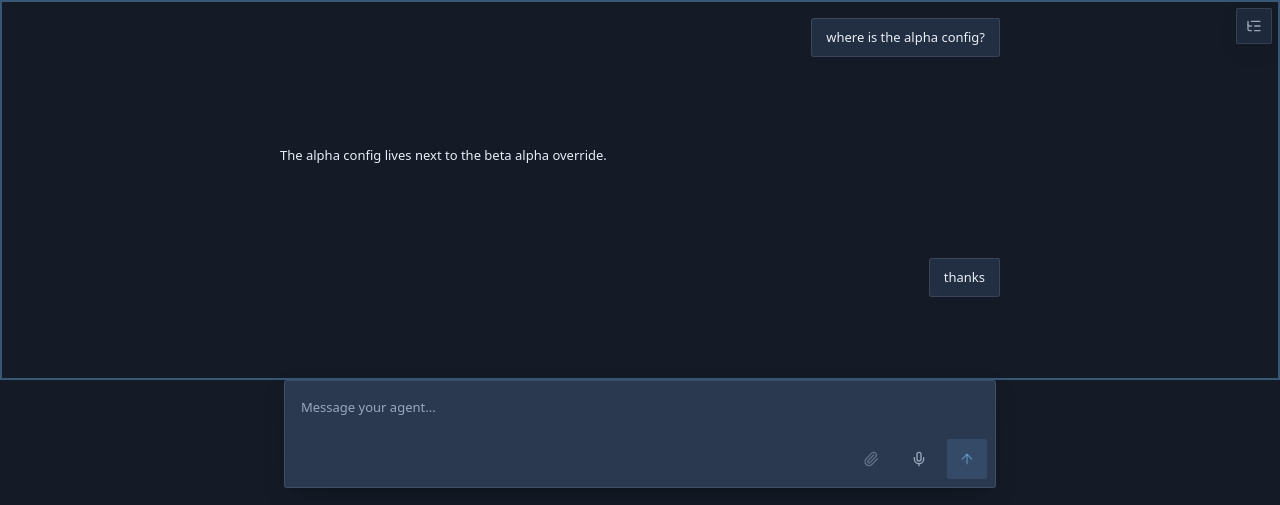
Test: ChatView — find in conversation › opens the find overlay on ⌘F when the chat surface is focused, and counts matches
This screenshot has width=1280, height=505.
Type keys "{Meta>}f{/Meta}"
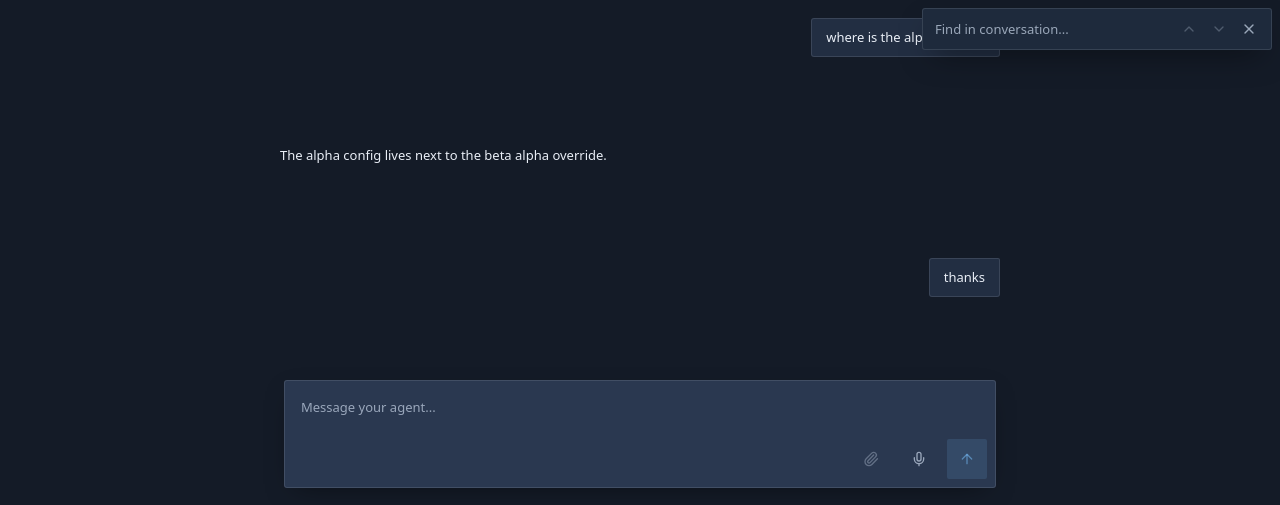
Check: the element named "find in conversation" is shown, box left=922, top=8, right=1272, bottom=50
Type "alpha" into the search field at (1019, 29), box left=931, top=15, right=1107, bottom=43
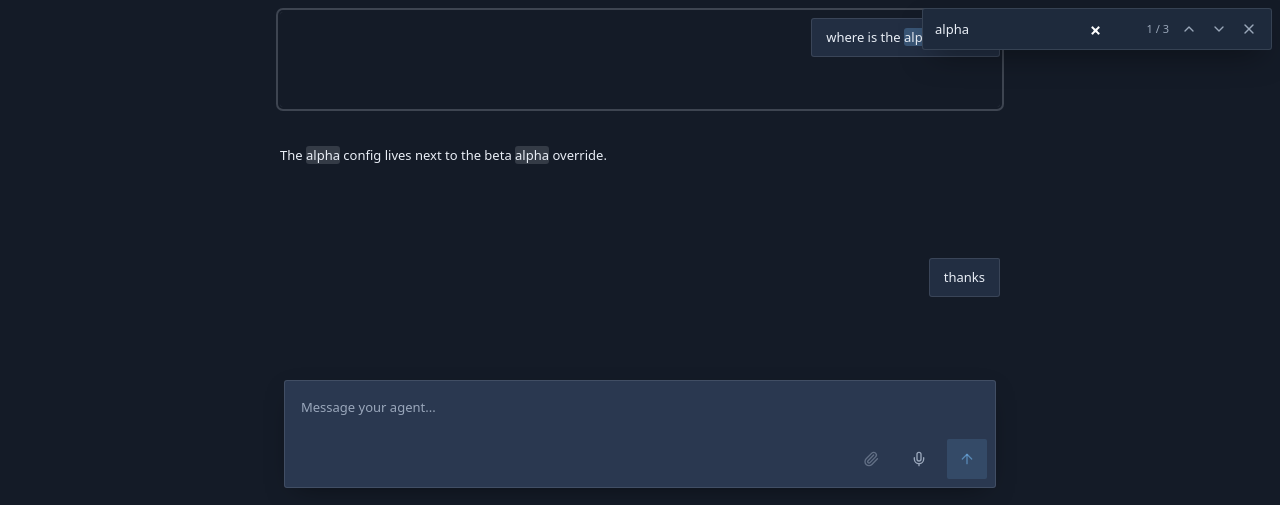
Check: the text "1 / 3" is shown, box left=1147, top=21, right=1169, bottom=36
